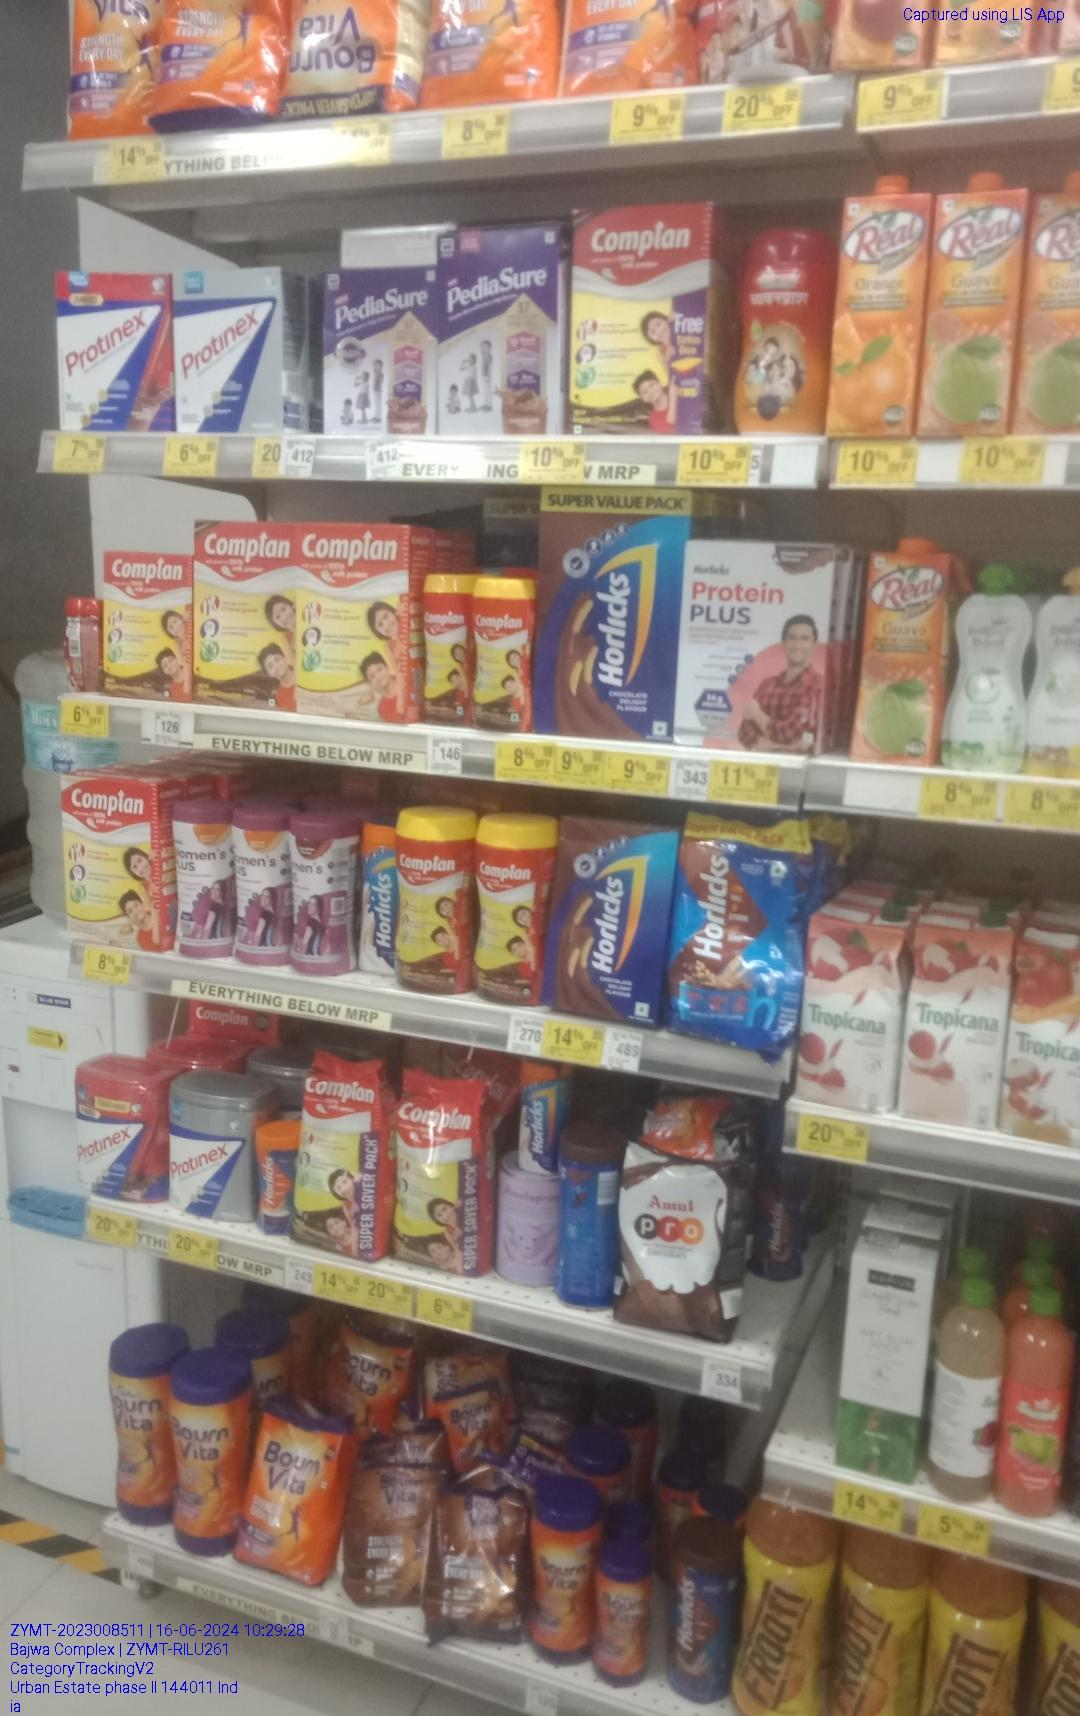COMPLAN_CHOCOLATE_200_GMS_JAR: (475, 579, 531, 730), (421, 576, 472, 727)
COMPLAN_CHOCOLATE_500_GMS_JAR: (393, 806, 470, 996), (477, 811, 547, 1007)
